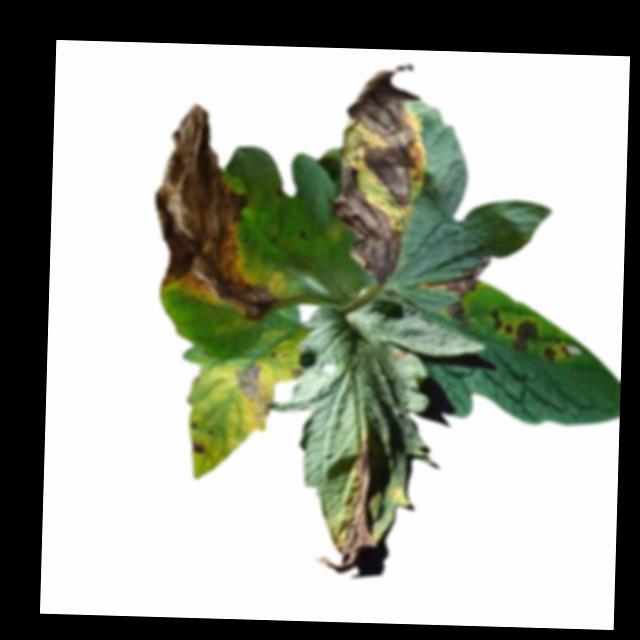Early_blight: (150, 102, 284, 319), (331, 56, 429, 287), (313, 434, 383, 574), (421, 254, 490, 329), (233, 359, 274, 419), (512, 317, 538, 353), (543, 338, 572, 362), (491, 308, 513, 336), (190, 436, 210, 456)
